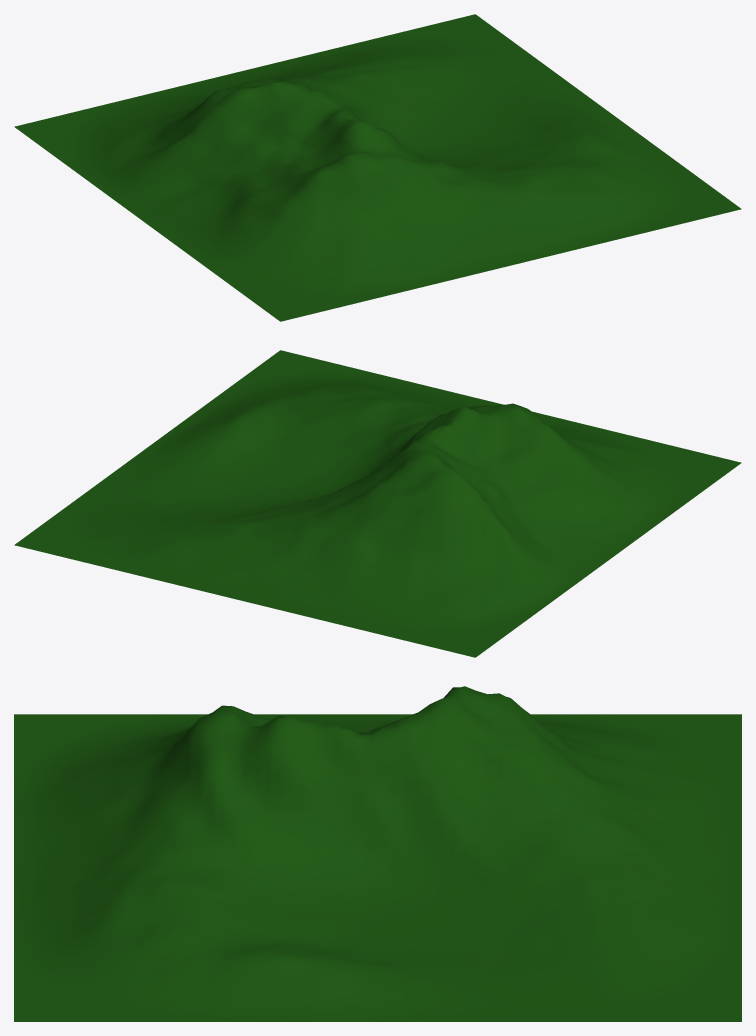
The model's file is Mountain.fbx.
3 views of the same model, one above another, from view 1: azimuth 30°, elevation 25°; view 2: azimuth 150°, elevation 25°; view 3: azimuth 270°, elevation 25° (orthographic). The views are drawn at different scales.
Visible parts, largest first — view 1: Landscape.001; view 2: Landscape.001; view 3: Landscape.001.
Boxes of the visible parts, bbox=[...] form: Landscape.001: bbox=[14, 14, 741, 321]; Landscape.001: bbox=[14, 350, 741, 657]; Landscape.001: bbox=[14, 686, 741, 1021].
Size of the model in its own units: 24715 by 4402 by 24715.
